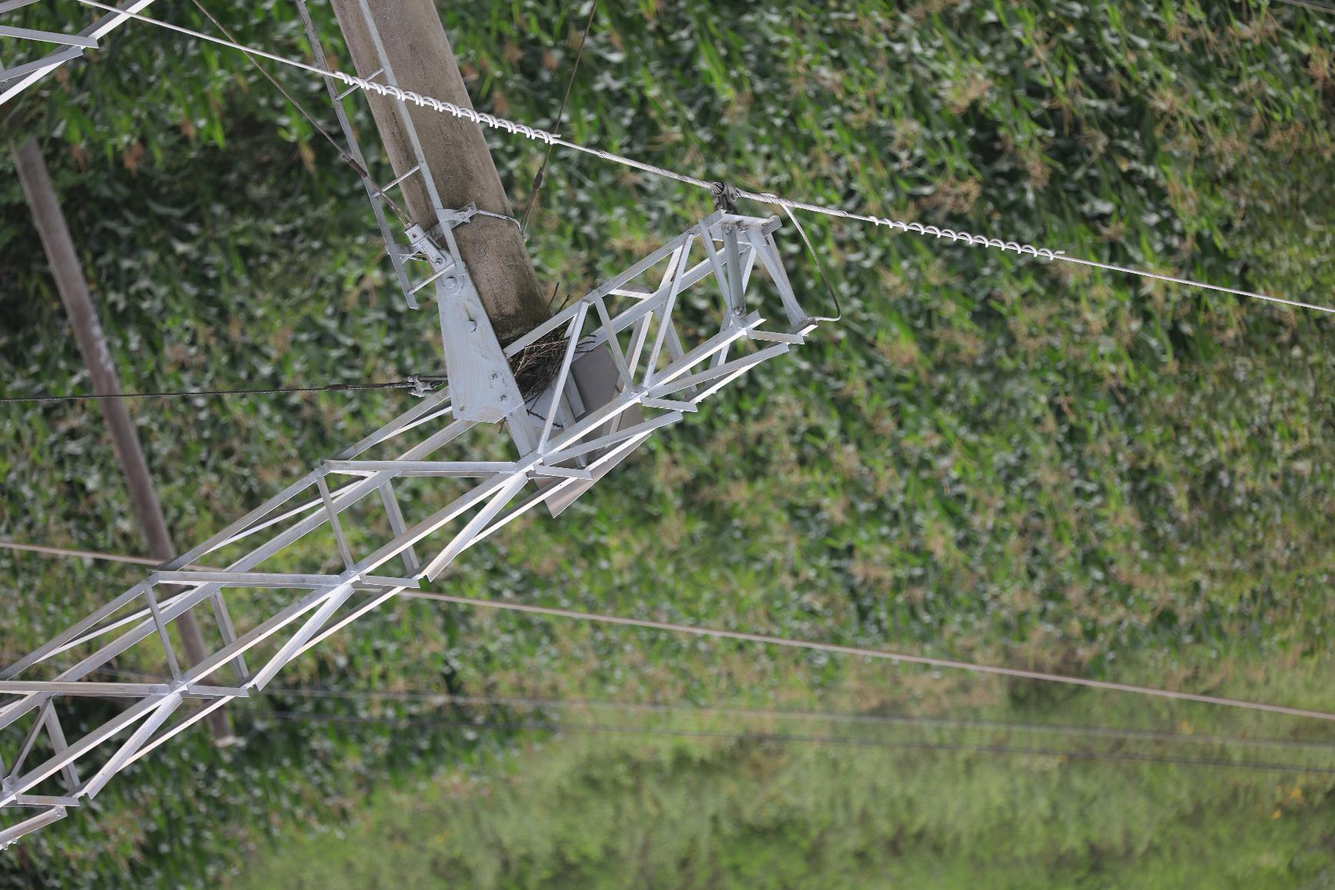nest: (507, 322, 572, 397)
